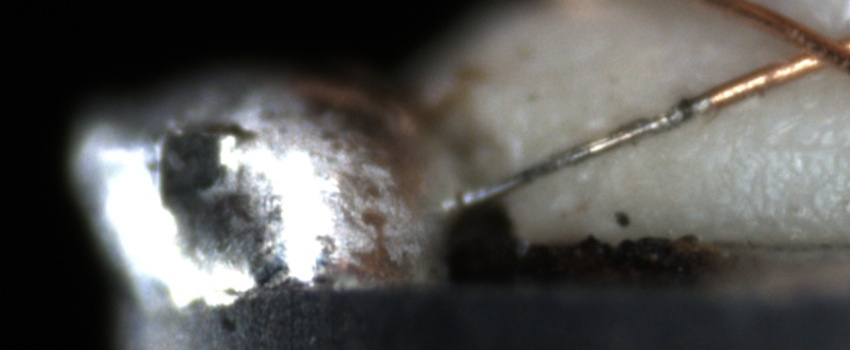CL: (772, 14, 847, 80)
DL: (650, 111, 850, 175)
TS: (464, 92, 707, 206)
TTCW: (447, 64, 761, 219)
